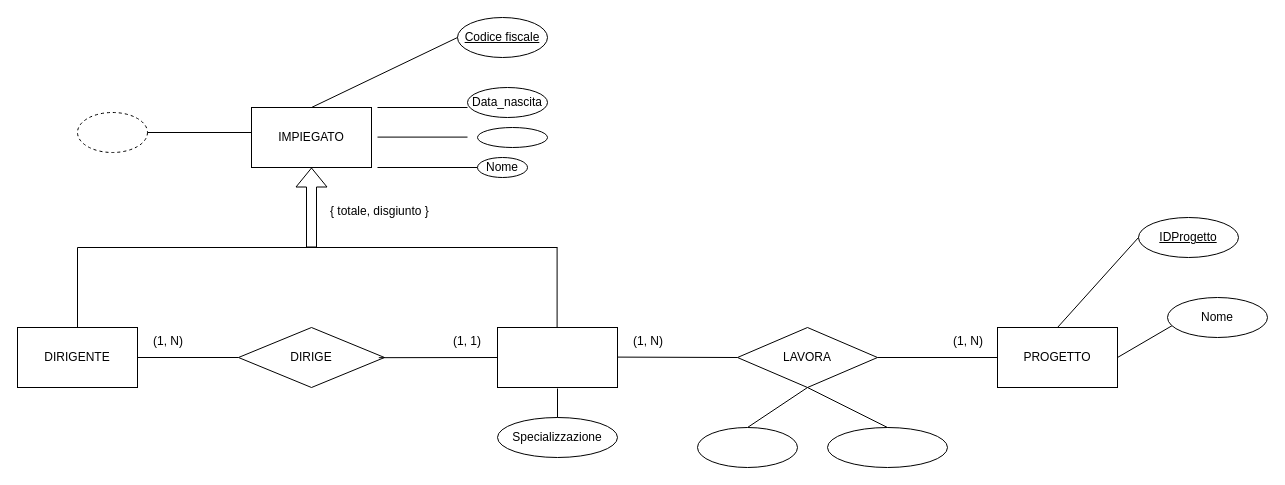
Image size: 1285x485. Some labels were removed from this diagram. Here are the shapes that lost their labels. From the top down, the centre of each, then its label:
At [112,132]: "Età".
At [512,137]: "Cognome".
At [557,357]: "TECNICO".
At [747,447]: "Data scadenza".
At [887,447]: "Data Assegnazione".
